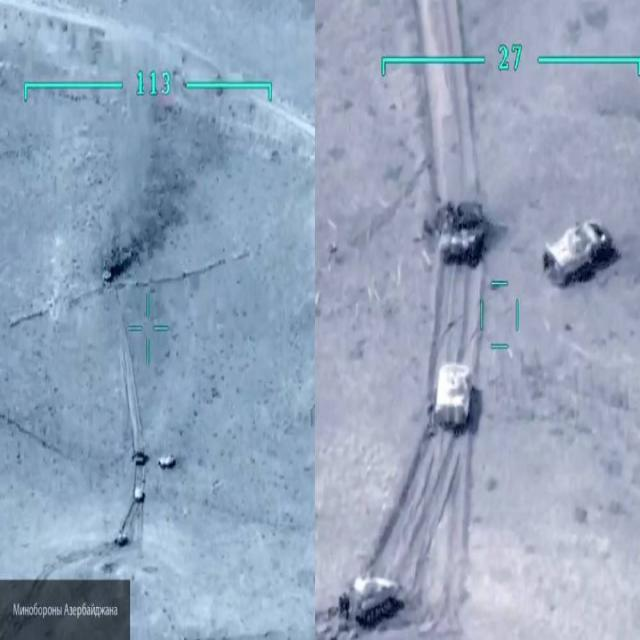apc: (544, 218, 614, 283), (435, 361, 472, 428), (158, 454, 176, 469)
cars: (339, 573, 401, 628), (132, 452, 150, 467), (134, 486, 146, 503), (114, 536, 130, 548)
tank: (438, 200, 486, 269)
